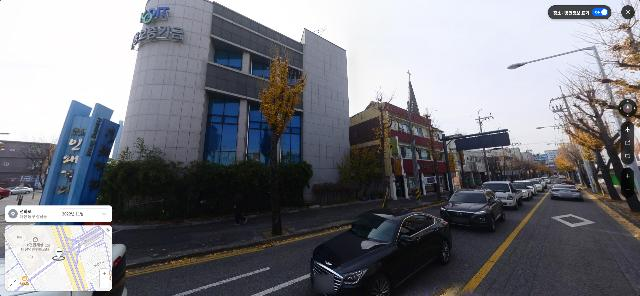ginkgo: (259, 33, 307, 237), (564, 62, 632, 202), (556, 97, 612, 193), (363, 91, 399, 207)
